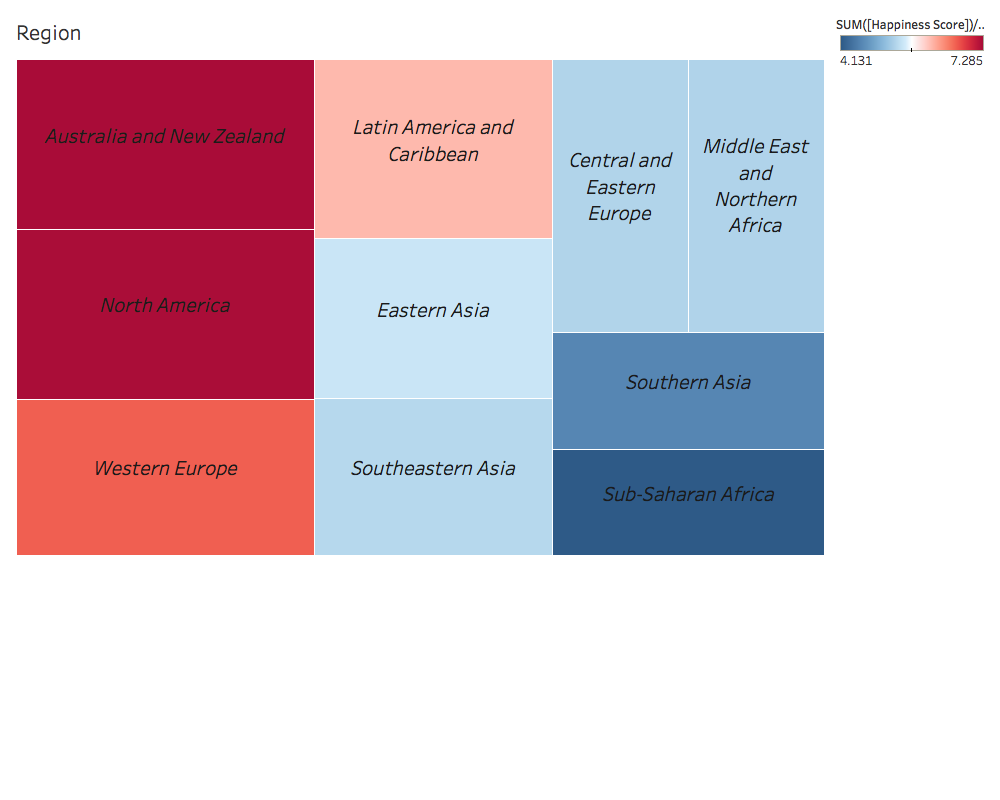

Layout of this report page (visuals, bound fields, positions):
{"tool":"tableau","page":{"name":"Dashboard 2","canvas":[1000,800],"ordinal":1},"visuals":[{"type":"worksheet","title":"Region","mark":"Automatic","box":[8,8,824,784]},{"type":"legend","title":"Region","param":"[federated.1o79d0a1o0p0uh1dptwfe1rnnekb].[usr:Calculation_128423008910946308:qk]","box":[832,8,160,65]}]}

Visuals, with their boxes in screenshot pixels (x1, y1, x2, y2), scaled from the page's 1000x800 canvas onto the 1000x800 screenshot:
"Region" worksheet: crop(8, 8, 832, 792)
"Region" legend: crop(832, 8, 992, 73)
